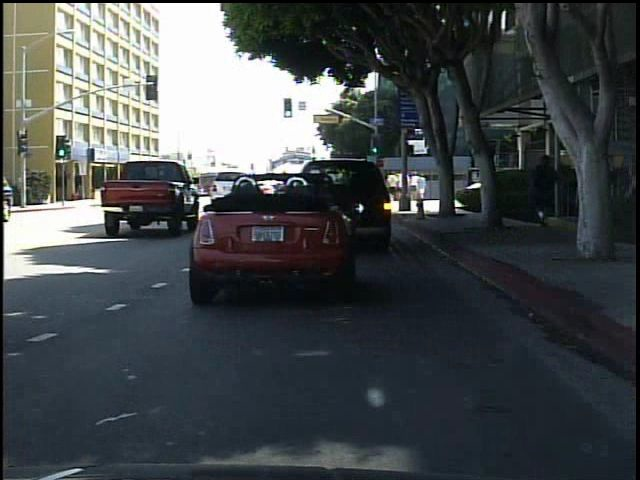person: (576, 137, 619, 256), (524, 149, 560, 230), (146, 172, 164, 202)
